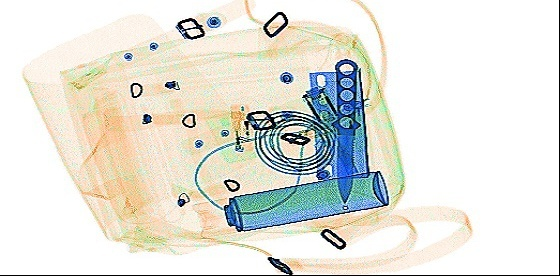knife: (330, 55, 359, 205)
lighter: (227, 101, 253, 157)
pressure: (190, 169, 392, 240)
